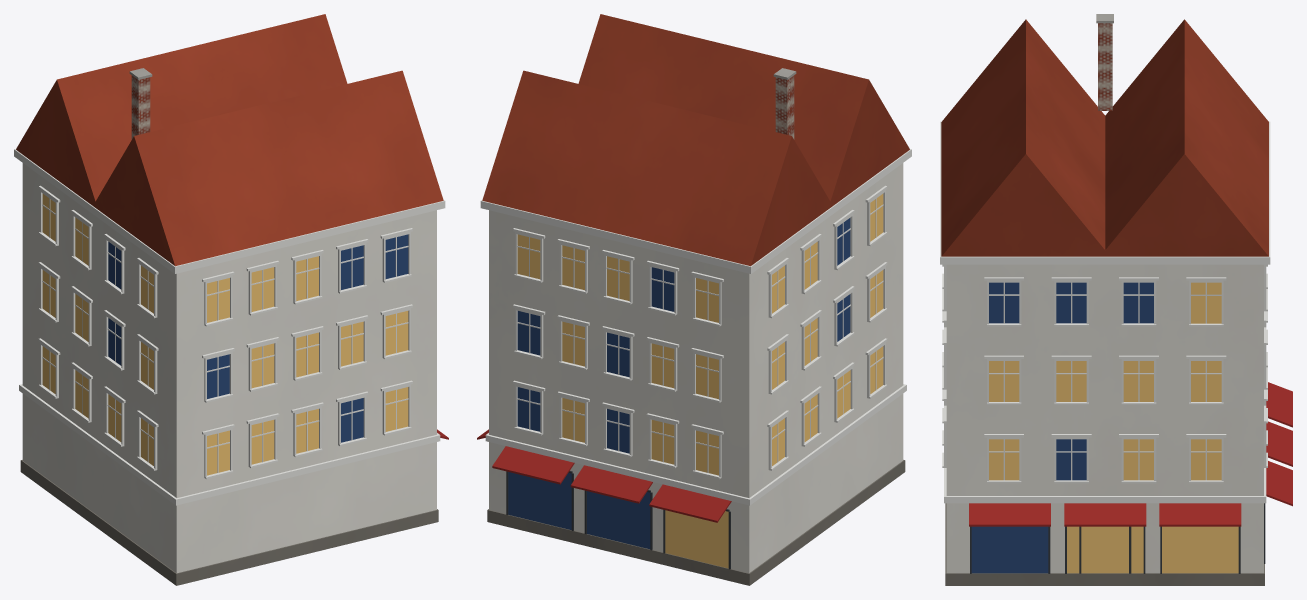
The model's file is dum_1d_obchody_0.glb.
3 views of the same model, side by side, from view 1: azimuth 30°, elevation 25°; view 2: azimuth 150°, elevation 25°; view 3: azimuth 270°, elevation 25° (orthographic). The views are drawn at different scales.
Visible parts, largest first — view 1: dum, noc; view 2: dum, noc; view 3: dum, noc.
Boxes of the visible parts, bbox=[...] form: dum: bbox=[14, 14, 448, 585]; noc: bbox=[42, 194, 408, 475]; dum: bbox=[477, 14, 911, 585]; noc: bbox=[517, 194, 883, 568]; dum: bbox=[940, 14, 1292, 585]; noc: bbox=[989, 282, 1238, 573].
Size of the model in its own units: 12.62 by 18.65 by 13.02.
Materials: 1 (1 with a texture image).
